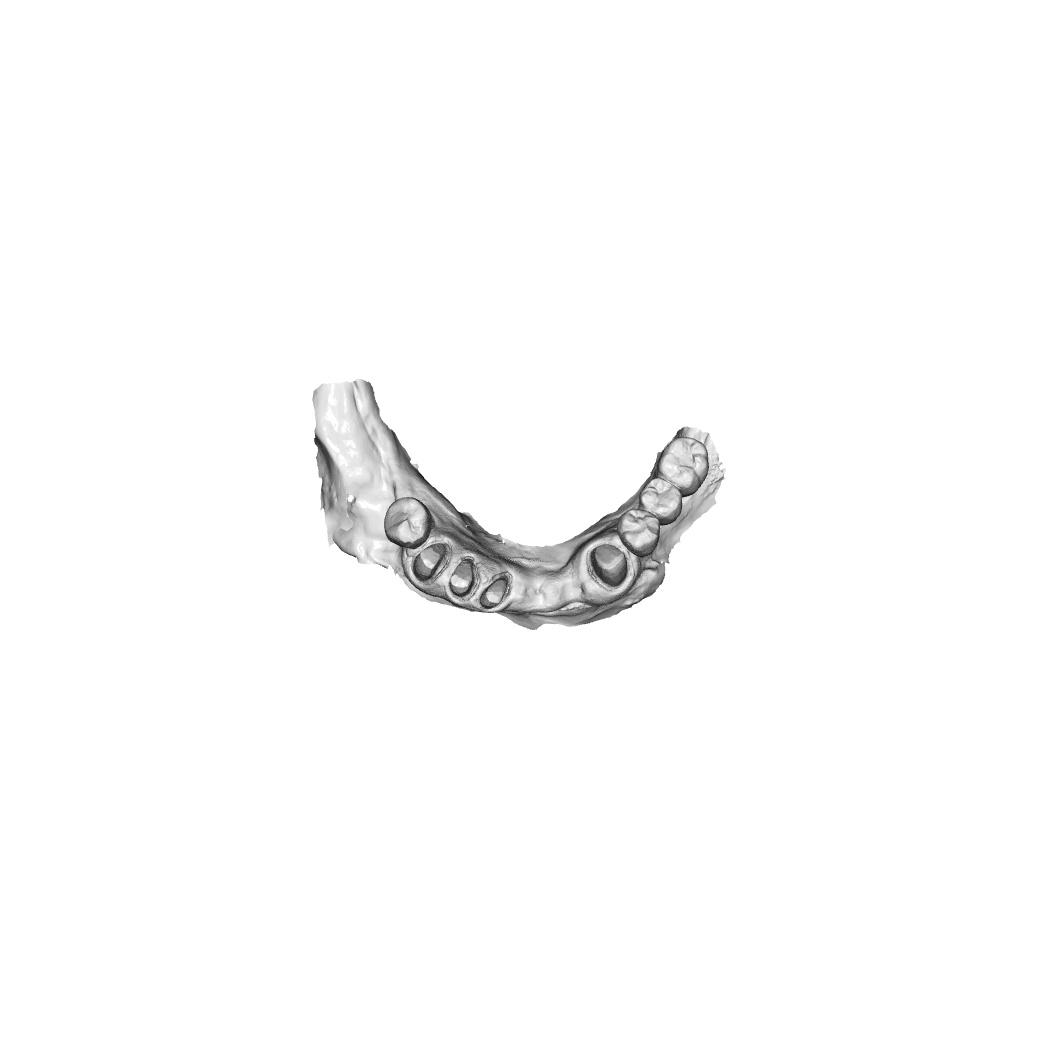crown: (586, 541, 631, 592), (412, 540, 452, 585), (446, 555, 480, 603), (475, 570, 514, 611)
molar: (657, 436, 710, 498)
premolar: (383, 495, 433, 549), (615, 507, 662, 559), (637, 475, 684, 526)
